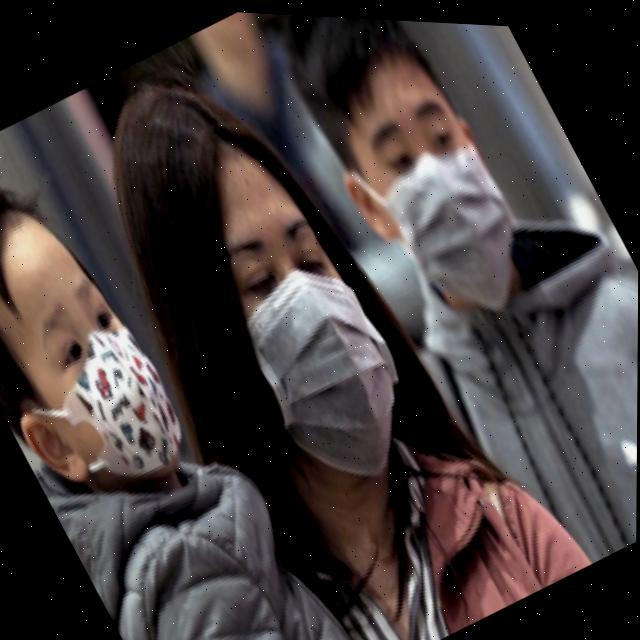Mask: (219, 242, 433, 489), (352, 118, 550, 339), (9, 313, 199, 509)
